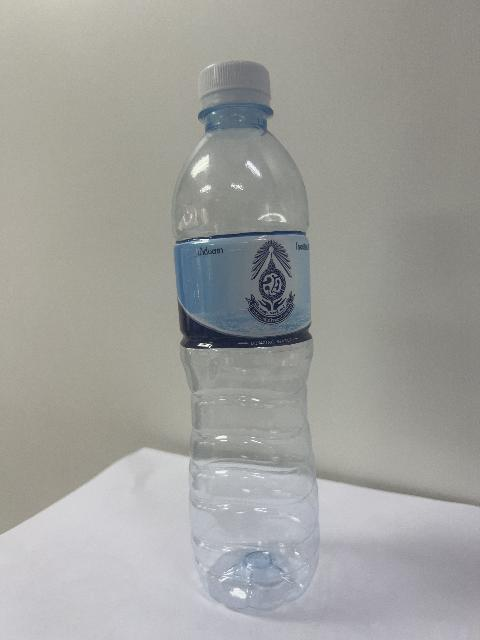bottle: (173, 61, 319, 609)
